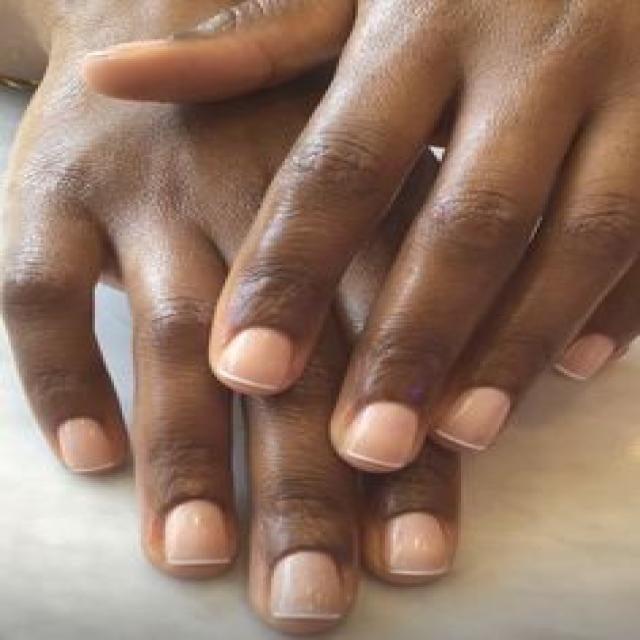Fingernail: (341, 401, 419, 468), (218, 326, 294, 389), (270, 552, 342, 618), (435, 388, 511, 450), (165, 499, 228, 565), (385, 511, 449, 575), (57, 417, 115, 472), (554, 334, 614, 381)
